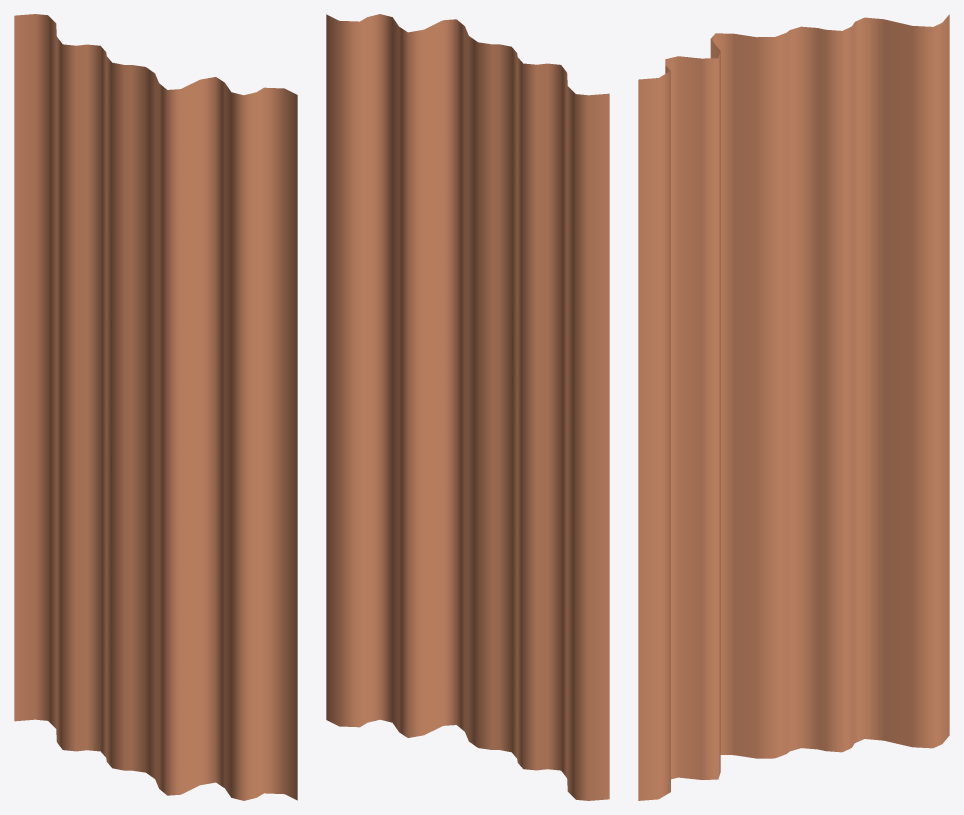
The model's file is OT_008_orange_curtains.glb.
3 renders of one model, left to right at view 1: azimuth 30°, elevation 25°; view 2: azimuth 210°, elevation 25°; view 3: azimuth 270°, elevation 25°, orthographic. The views are drawn at different scales.
Parts seen in each view (by area): view 1: curtains_front, curtains_back; view 2: curtains_front, curtains_back; view 3: curtains_front, curtains_back.
Part boxes in pixels (x1,y1,x2,y2): curtains_front: (14,14,297,800); curtains_back: (14,14,297,799); curtains_front: (326,14,609,800); curtains_back: (326,14,609,800); curtains_front: (638,14,949,800); curtains_back: (638,17,949,800).
Bounding box in the file's own units: 0.7486 × 3.84 × 1.5.
